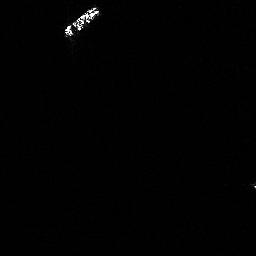ship: (60, 4, 104, 41)
